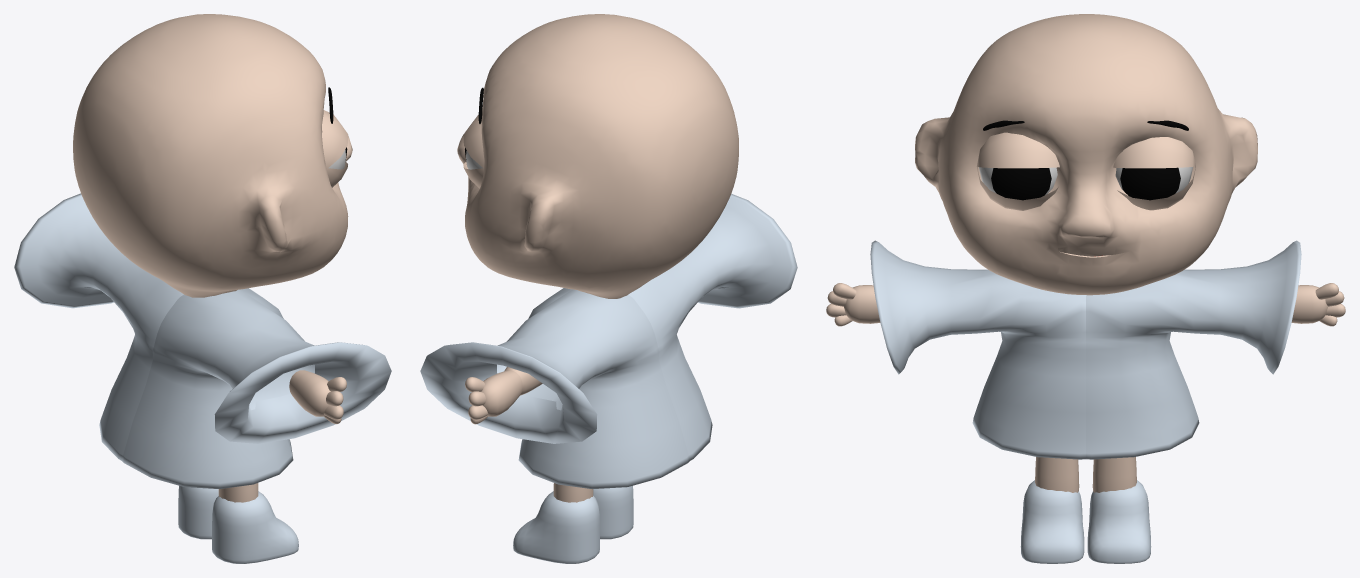
File: demo_monk3.fbx
3 views of the same model, side by side, from view 1: azimuth 30°, elevation 25°; view 2: azimuth 150°, elevation 25°; view 3: azimuth 270°, elevation 25° (orthographic).
Parts seen in each view (by area): view 1: 球体.001, 立方体.003, 立方体.005, 立方体.007, 球体.003, 立方体.004; view 2: 球体.001, 立方体.003, 立方体.005, 立方体.007, 球体.002, 立方体.004; view 3: 球体.001, 立方体.003, 立方体.005, 球体, 球体.003, 立方体.004, 球体.002, 立方体.007.
Boxes of the visible parts, x1,y1,x2,y2 form: 球体.001: [73, 14, 352, 297]; 立方体.003: [14, 193, 391, 488]; 立方体.005: [178, 485, 298, 563]; 立方体.007: [289, 370, 330, 416]; 球体.003: [322, 110, 348, 187]; 立方体.004: [213, 483, 258, 502]; 球体.001: [457, 14, 738, 298]; 立方体.003: [420, 194, 797, 489]; 立方体.005: [513, 486, 633, 563]; 立方体.007: [481, 370, 522, 416]; 球体.002: [463, 115, 483, 188]; 立方体.004: [553, 483, 598, 502]; 球体.001: [915, 14, 1257, 295]; 立方体.003: [870, 240, 1301, 459]; 立方体.005: [1020, 480, 1151, 563]; 球体: [979, 167, 1192, 200]; 球体.003: [976, 132, 1059, 210]; 立方体.004: [1035, 457, 1136, 492]; 球体.002: [1113, 137, 1195, 210]; 立方体.007: [844, 285, 1327, 323].
Size of the model in its own units: 191 by 376 by 347.
